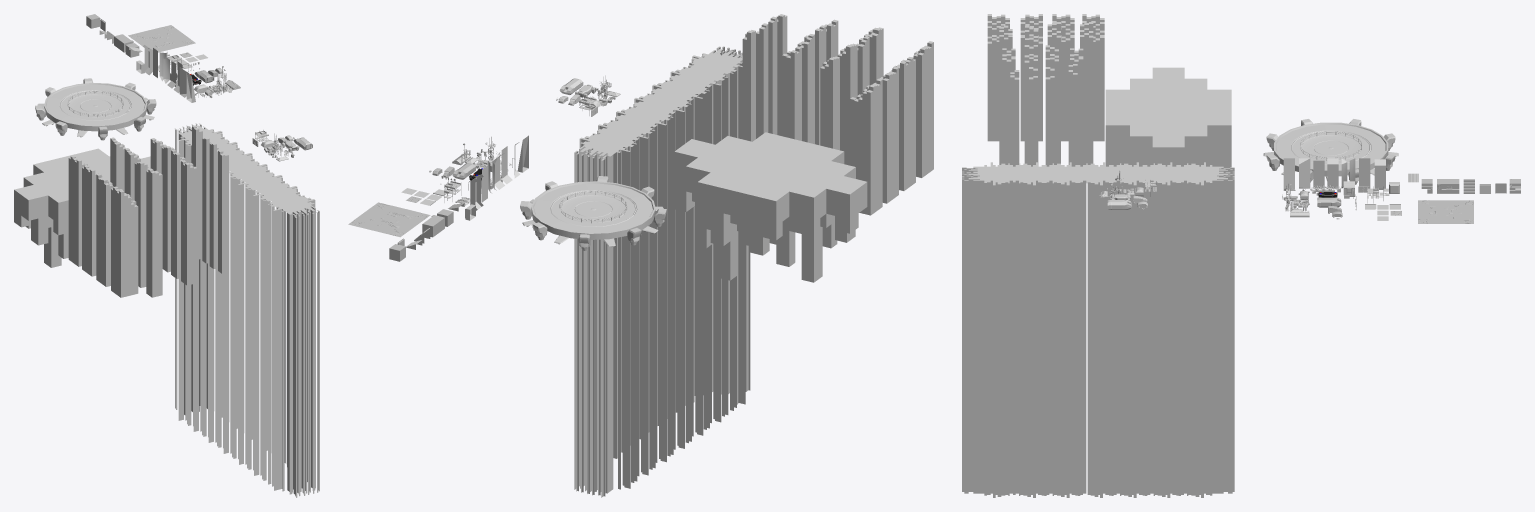
Rendered from FINALPACK.fbx.
3 renders of one model, left to right at view 1: azimuth 30°, elevation 25°; view 2: azimuth 150°, elevation 25°; view 3: azimuth 270°, elevation 25°, orthographic. The views are drawn at different scales.
Parts seen in each view (by area): view 1: VoidWalkway, VoidArena, PlatformOuter, VoidTowerLarge3, VoidTowerMedium1, VoidTowerSmall1, VoidTowerLarge2, VoidTowerLarge1, VoidTowerLarge4, VoidTowerTiny1, VoidTowerMedium2, VoidTowerSmall2 (+10 smaller); view 2: VoidWalkway, VoidArena, PlatformOuter, VoidTowerLarge4, VoidTowerLarge3, VoidTowerLarge1, VoidTowerLarge2, VoidTowerSmall4, VoidTowerMedium4, VoidTowerMedium3, VoidTowerTiny4, PlatformCenter (+8 smaller); view 3: VoidWalkway, VoidArena, PlatformOuter, VoidTowerLarge3, VoidTowerMedium4, VoidTowerLarge4, VoidTowerLarge2, VoidTowerLarge1, PlatformCenter, VoidTowerSmall1, VoidTowerTiny4, VoidTowerTiny3 (+7 smaller).
Boxes of the visible parts, x1,y1,x2,y2 form: VoidWalkway: (174,123,319,497); VoidArena: (14,148,150,267); PlatformOuter: (35,78,156,140); VoidTowerLarge3: (111,186,138,297); VoidTowerMedium1: (146,168,162,297); VoidTowerSmall1: (181,160,197,285); VoidTowerLarge2: (96,173,122,286); VoidTowerLarge1: (82,165,102,276); VoidTowerLarge4: (68,155,87,266); VoidTowerTiny1: (218,150,228,273); VoidTowerMedium2: (134,162,150,287); VoidTowerSmall2: (171,149,186,278); VoidWalkway: (574,46,750,497); VoidArena: (674,132,867,282); PlatformOuter: (520,176,666,250); VoidTowerLarge4: (850,78,882,215); VoidTowerLarge3: (901,41,933,177); VoidTowerLarge1: (866,66,898,203); VoidTowerLarge2: (891,57,915,190); VoidTowerSmall4: (782,46,801,140); VoidTowerMedium4: (820,56,839,150); VoidTowerMedium3: (837,43,857,165); VoidTowerTiny4: (742,30,755,141); PlatformCenter: (561,195,626,222); VoidWalkway: (962,162,1234,497); VoidArena: (1105,67,1231,167); PlatformOuter: (1266,119,1395,184); VoidTowerLarge3: (987,14,1009,141); VoidTowerMedium4: (1080,22,1093,164); VoidTowerLarge4: (1082,14,1104,141); VoidTowerLarge2: (1020,14,1042,141); VoidTowerLarge1: (1052,14,1074,141); PlatformCenter: (1301,135,1361,160); VoidTowerSmall1: (1002,48,1015,164); VoidTowerTiny4: (1068,64,1077,166); VoidTowerTiny3: (1045,67,1054,166).
Bounding box in the file's own units: 499 × 330 × 383.
